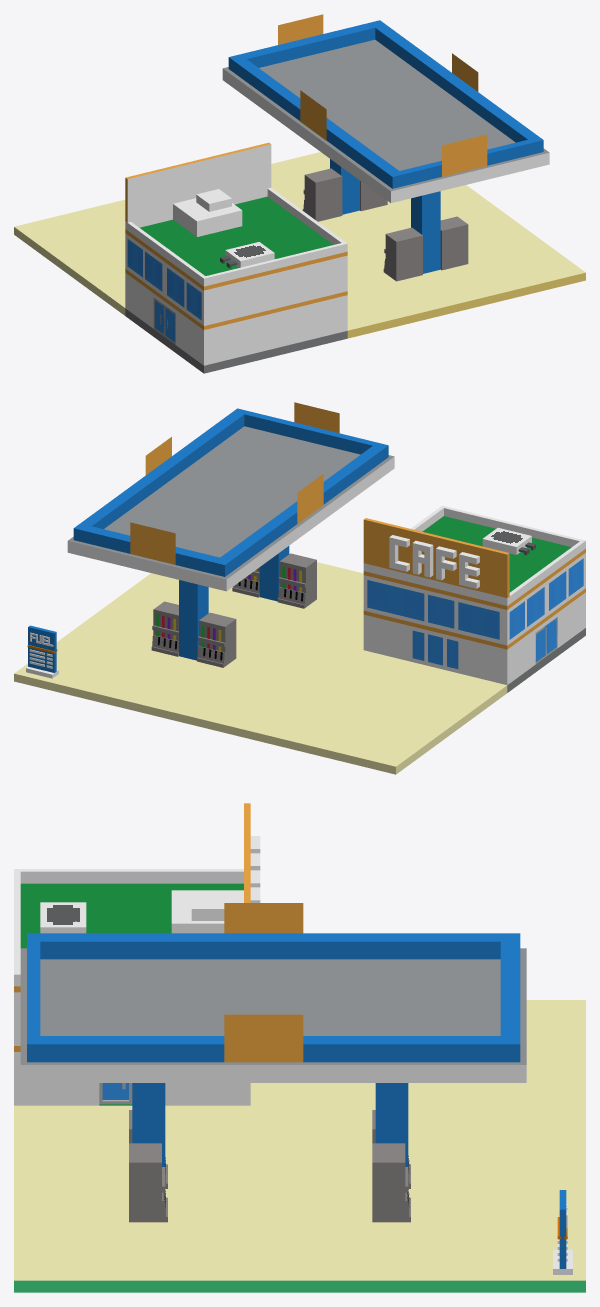
File: GasStation.gltf
3 views of the same model, one above another, from view 1: azimuth 30°, elevation 25°; view 2: azimuth 150°, elevation 25°; view 3: azimuth 270°, elevation 25° (orthographic). The views are drawn at different scales.
Visible parts, largest first — view 1: cube (×31), base, glass (×2); view 2: cube (×28), glass (×5), base; view 3: cube (×23).
Part boxes in pixels (bbox=[...]): cube (×31): bbox=[14, 14, 585, 364]; base: bbox=[125, 308, 347, 373]; glass (×2): bbox=[145, 251, 184, 307]; cube (×28): bbox=[14, 402, 585, 774]; glass (×5): bbox=[367, 571, 566, 639]; base: bbox=[507, 628, 585, 692]; cube (×23): bbox=[14, 803, 585, 1292].
Bounding box in the file's own units: 6.31 × 2.62 × 5.44.
Materials: 3 (3 with a texture image).
